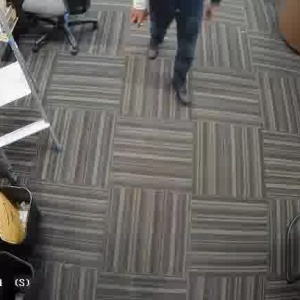person: (139, 0, 224, 110)
